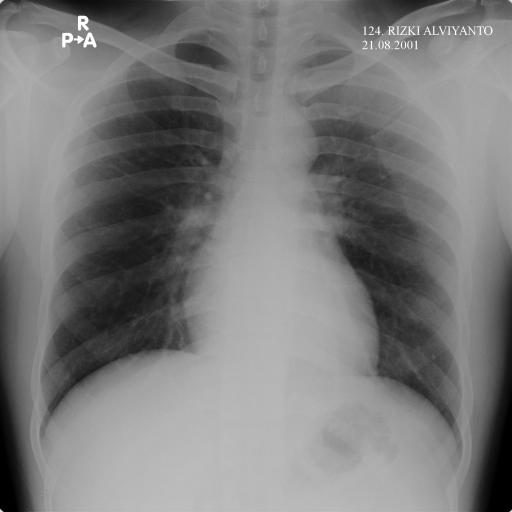normal: (25, 17, 477, 469)
